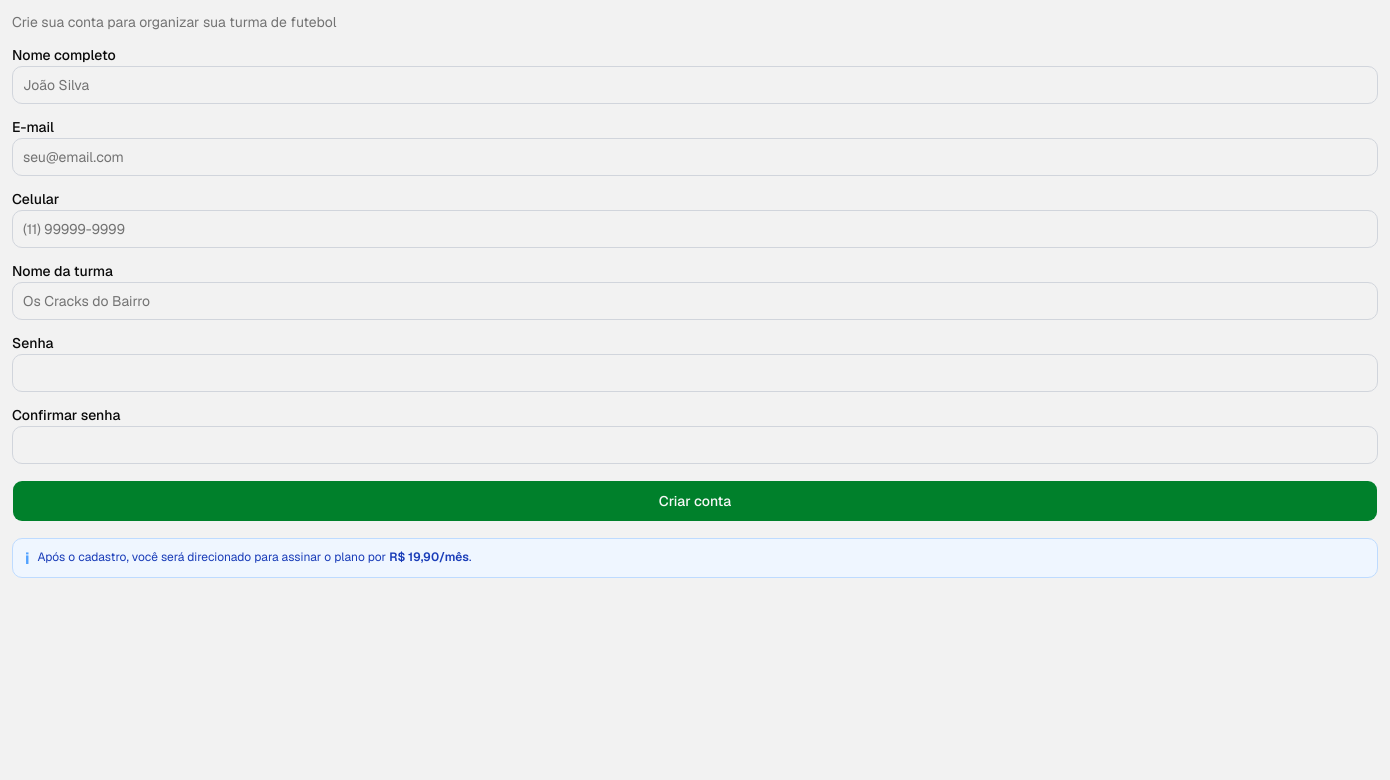
CadastroForm › validation › shows error when password has fewer than 6 characters
In the password field labelled "Senha": (695, 373) top-left (12, 354), bottom-right (1378, 392), type "abc"
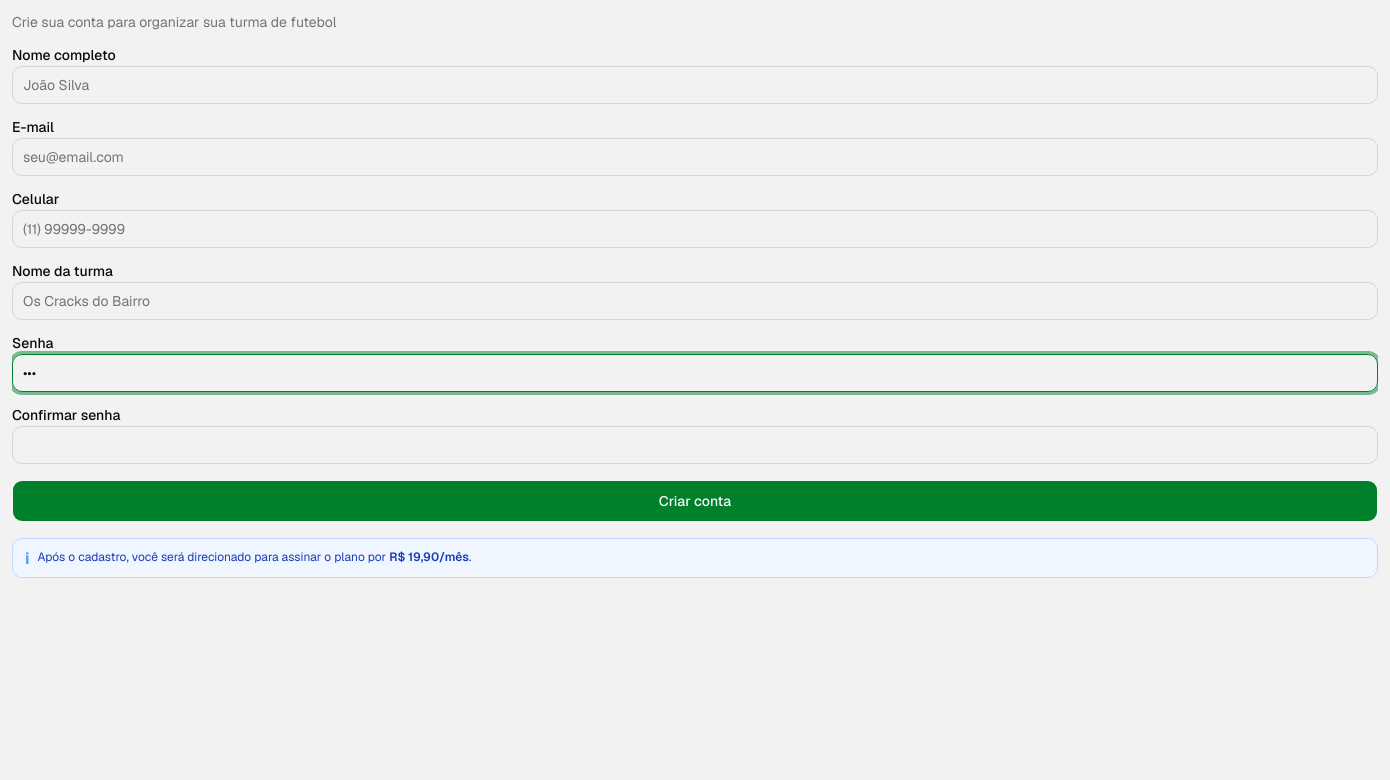
Click the button "Criar conta": click(695, 501) top-left (12, 480), bottom-right (1378, 522)
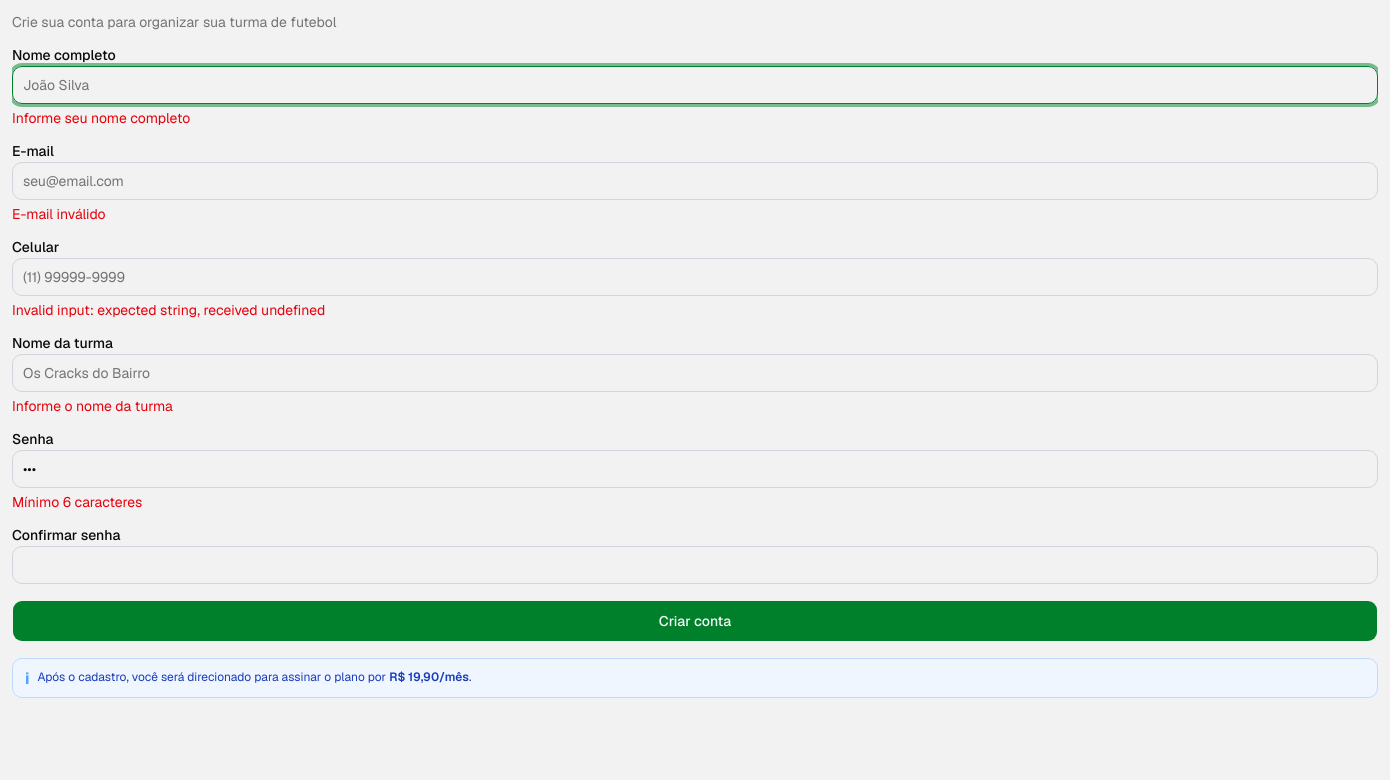
Result: the text "Mínimo 6 caracteres" is shown at top-left (12, 493), bottom-right (142, 511)
